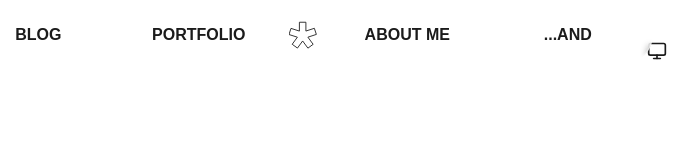
SiteHeader › uses one navigation-level hover background for every link
Hover over the link "Portfolio": [199, 35] box [152,26,245,43]
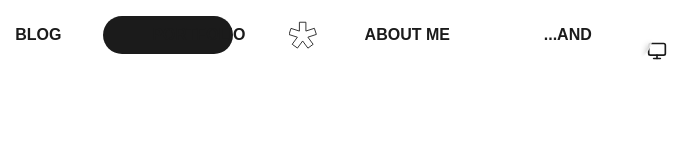
Result: the number of elements with class "site-primary-hover-background" is 1 at [103,16,233,54]
